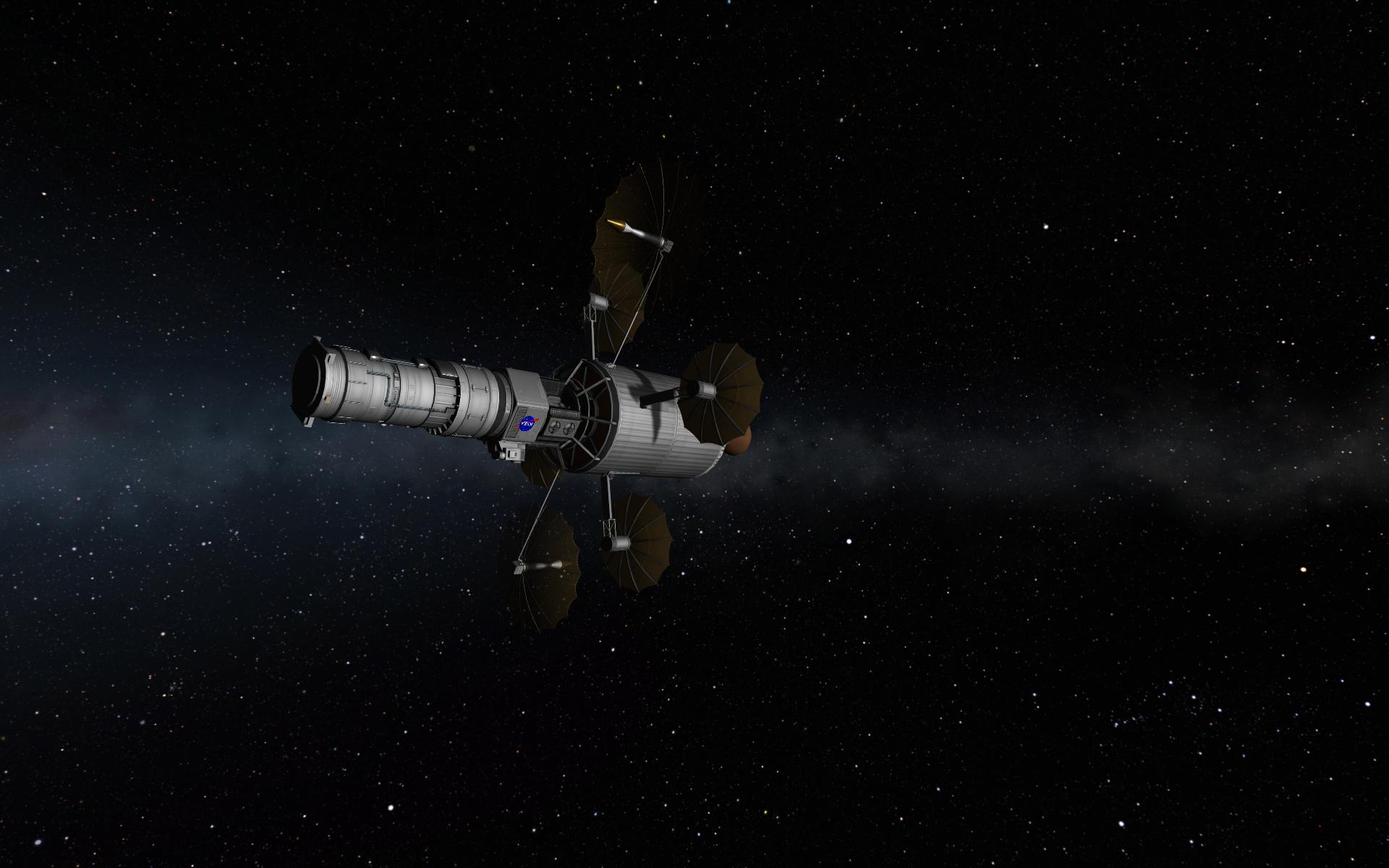antenna: (587, 150, 688, 317), (493, 495, 584, 637), (676, 338, 767, 448), (597, 491, 676, 595), (577, 263, 652, 355), (517, 444, 567, 489)
body: (279, 332, 732, 482)
thruster: (718, 421, 752, 456)
